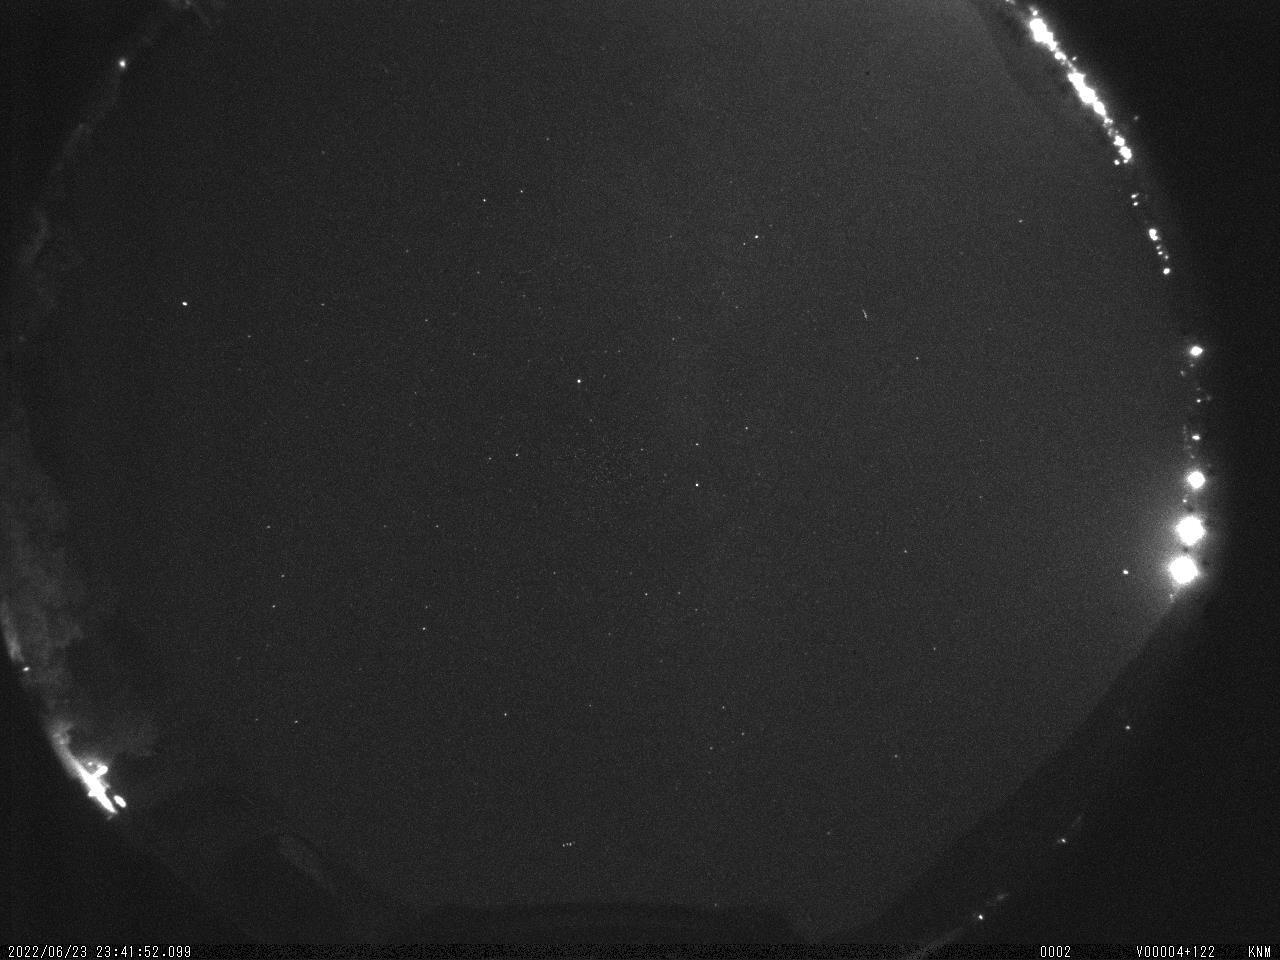Meteor: (858, 305, 871, 324)
